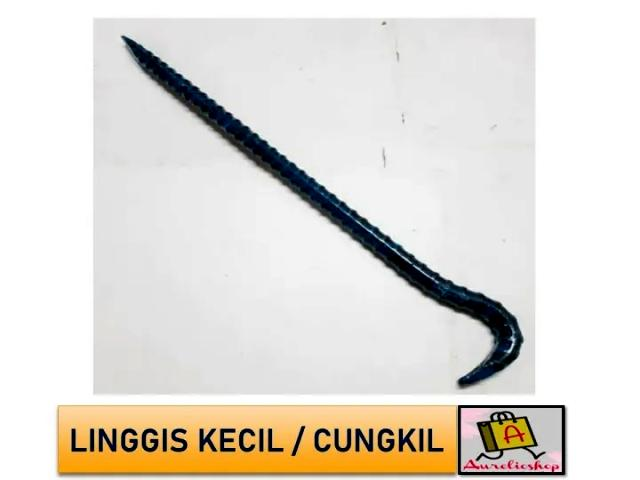crow bar: (124, 32, 521, 392)
